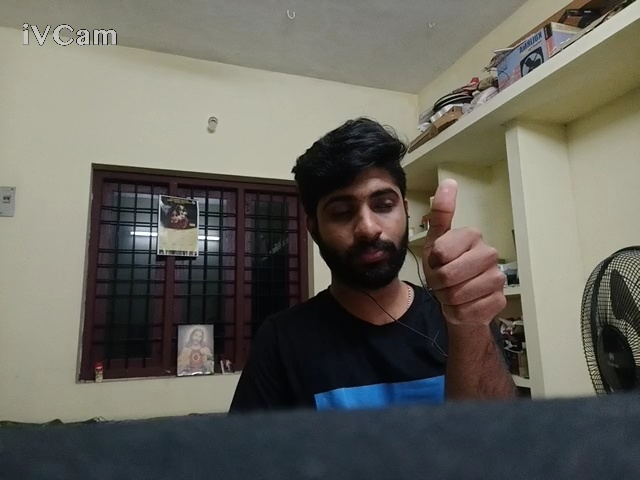Yes: (357, 144, 568, 355)
